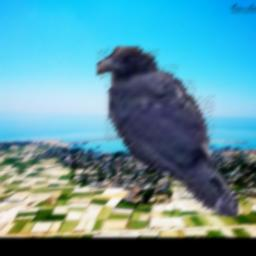Crow: (97, 46, 239, 217)
